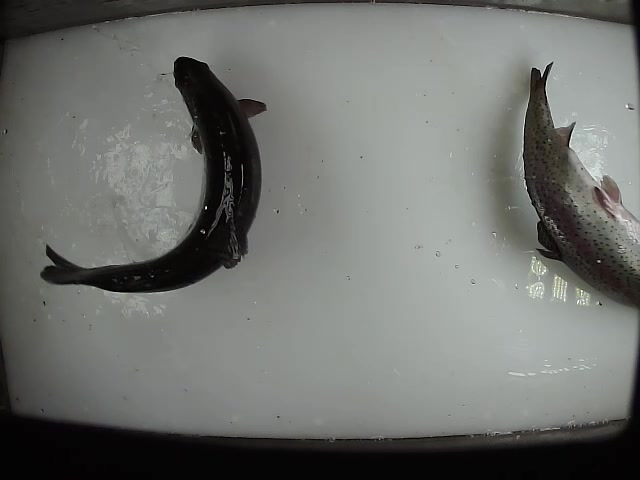fish: (39, 55, 271, 294), (523, 58, 639, 314)
